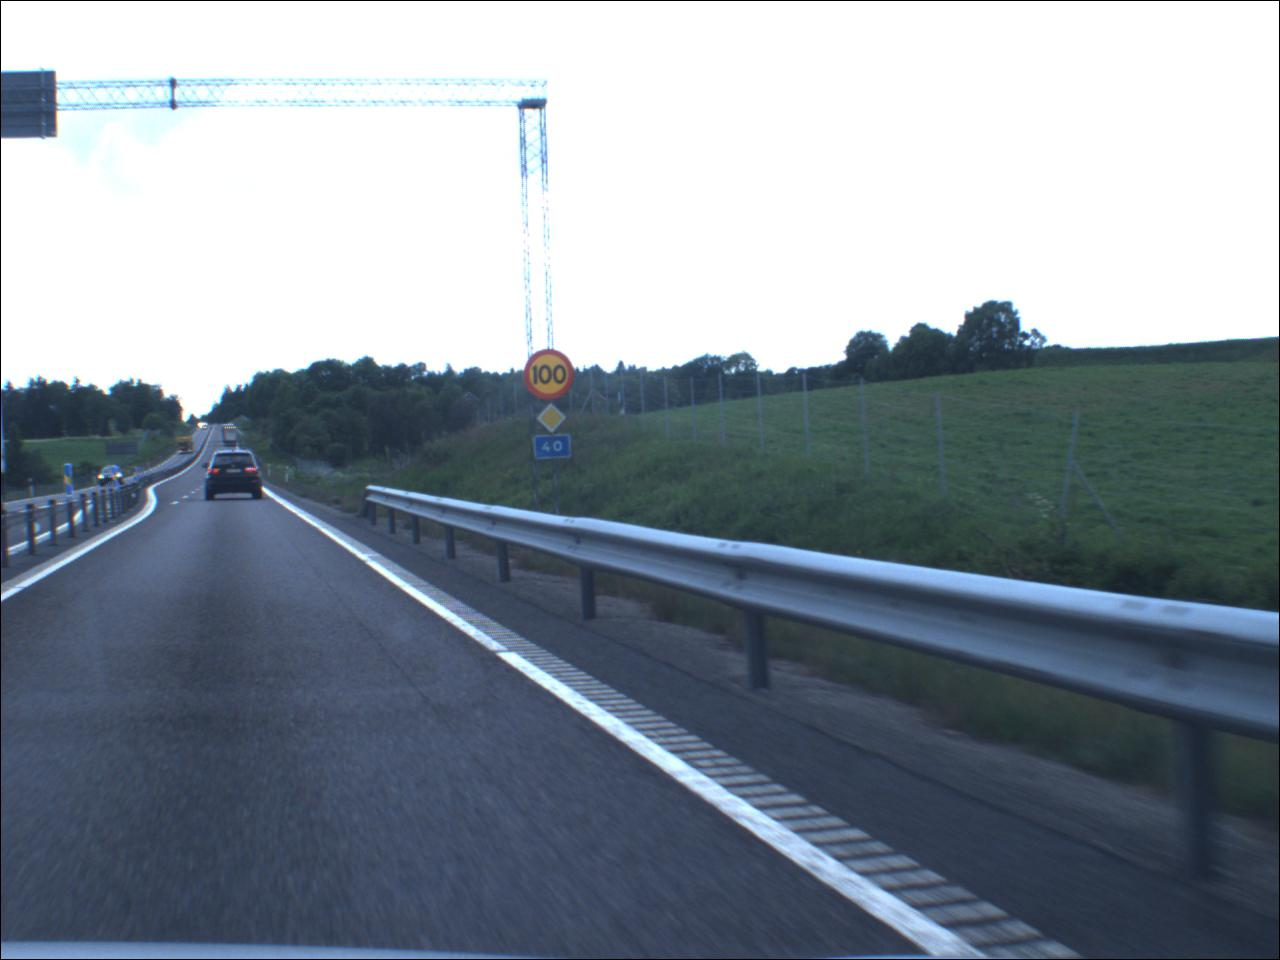100_SIGN: (526, 351, 578, 402)
PRIORITY_ROAD: (539, 405, 570, 436)
